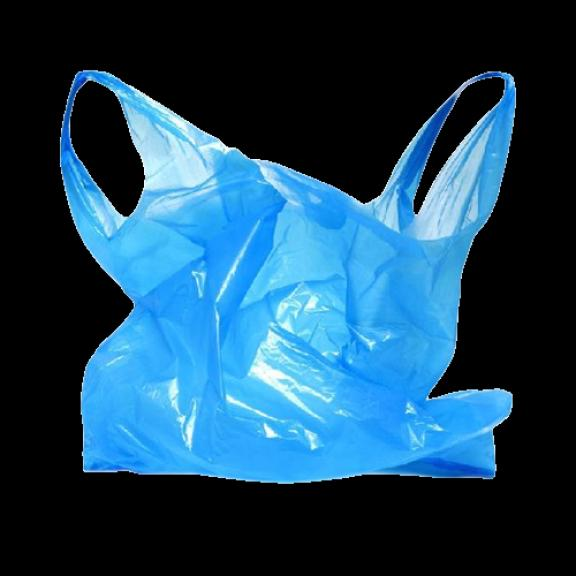Plastik: (47, 59, 514, 503)
